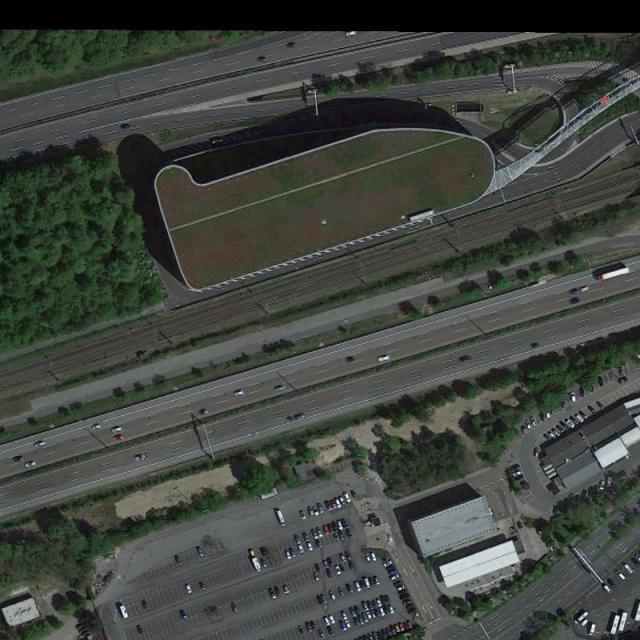vehicle: (594, 266, 631, 285), (572, 610, 590, 627), (610, 614, 622, 634), (623, 562, 636, 576), (620, 611, 629, 630), (605, 578, 618, 590), (277, 510, 286, 526), (336, 586, 347, 599), (381, 558, 394, 569), (272, 384, 286, 394), (564, 418, 576, 429), (602, 583, 614, 594), (259, 546, 270, 558), (588, 623, 598, 636), (134, 452, 147, 462), (358, 580, 368, 593), (363, 578, 373, 591), (630, 556, 640, 568), (24, 460, 36, 470), (326, 522, 336, 534), (634, 601, 640, 621), (344, 582, 354, 594), (377, 354, 390, 363), (324, 499, 333, 512), (617, 570, 627, 581), (580, 617, 590, 628), (35, 439, 46, 449), (586, 404, 597, 414), (179, 610, 188, 622), (354, 581, 363, 593), (186, 583, 194, 596), (606, 476, 614, 489), (576, 414, 586, 424), (315, 527, 324, 538), (341, 518, 350, 529), (331, 521, 340, 532), (267, 590, 278, 599), (317, 628, 326, 639), (525, 418, 532, 432), (599, 476, 606, 490), (232, 390, 244, 398), (458, 354, 470, 362), (110, 426, 122, 434), (330, 590, 338, 602), (195, 546, 203, 558), (294, 413, 306, 421), (141, 600, 150, 610), (345, 528, 354, 538), (339, 496, 348, 506), (313, 564, 322, 574), (282, 584, 291, 594), (389, 569, 399, 578), (369, 552, 378, 562), (597, 400, 606, 410), (569, 416, 578, 426), (555, 425, 565, 434), (326, 556, 334, 567), (317, 503, 325, 514), (323, 615, 331, 626), (368, 577, 376, 588), (390, 573, 401, 581), (174, 554, 182, 565), (510, 463, 521, 471), (598, 375, 605, 387), (89, 424, 101, 431), (316, 538, 323, 550), (290, 548, 297, 560), (308, 506, 315, 518), (335, 498, 342, 510), (341, 610, 348, 622), (316, 594, 323, 606), (339, 554, 348, 563), (121, 122, 131, 130), (579, 286, 589, 294), (338, 531, 346, 541), (285, 551, 293, 561), (294, 535, 302, 545), (330, 500, 338, 510), (344, 494, 352, 504), (262, 560, 270, 570), (376, 598, 384, 608), (326, 626, 334, 636), (344, 620, 352, 630), (407, 606, 417, 614), (560, 422, 570, 430), (345, 31, 358, 37), (345, 551, 352, 562), (274, 586, 281, 597), (306, 622, 313, 633), (374, 575, 381, 586), (310, 620, 317, 631), (349, 607, 356, 618), (321, 592, 328, 603), (367, 599, 374, 610), (378, 606, 385, 617), (386, 627, 393, 638), (618, 377, 629, 384), (322, 526, 330, 535), (306, 542, 314, 551), (198, 582, 206, 591), (329, 614, 337, 623), (354, 606, 362, 615), (579, 386, 585, 398), (552, 428, 561, 436), (548, 431, 557, 439), (570, 393, 577, 403), (569, 298, 579, 305), (332, 532, 339, 542), (323, 559, 330, 569), (364, 554, 371, 564), (231, 604, 238, 614), (386, 564, 396, 571), (362, 601, 369, 611), (113, 434, 123, 441), (402, 598, 412, 605), (568, 288, 579, 294), (338, 519, 344, 530), (312, 530, 318, 541), (512, 470, 523, 476), (530, 415, 535, 428), (546, 406, 551, 419), (298, 626, 306, 634), (580, 411, 588, 419), (543, 434, 551, 442), (299, 511, 306, 520), (137, 626, 144, 635), (341, 622, 348, 631), (362, 614, 369, 623), (366, 612, 373, 621), (390, 626, 397, 635), (299, 544, 305, 554), (314, 572, 320, 582), (256, 56, 266, 62), (13, 457, 23, 463), (198, 409, 208, 415), (326, 568, 332, 578), (398, 594, 410, 599), (358, 615, 364, 625), (633, 554, 640, 562), (303, 534, 310, 542), (348, 562, 355, 570), (374, 609, 381, 617), (534, 447, 539, 458), (619, 366, 624, 377), (521, 426, 527, 435), (314, 508, 320, 517), (336, 566, 342, 575), (287, 42, 296, 48), (370, 610, 376, 619), (384, 606, 390, 615), (388, 605, 394, 614), (352, 490, 358, 499), (381, 628, 386, 638), (372, 633, 379, 640), (540, 410, 544, 422), (406, 603, 414, 609), (394, 625, 400, 633), (398, 589, 407, 594), (399, 622, 404, 631), (346, 357, 354, 362), (394, 581, 402, 586), (354, 616, 358, 626), (398, 585, 404, 590)
